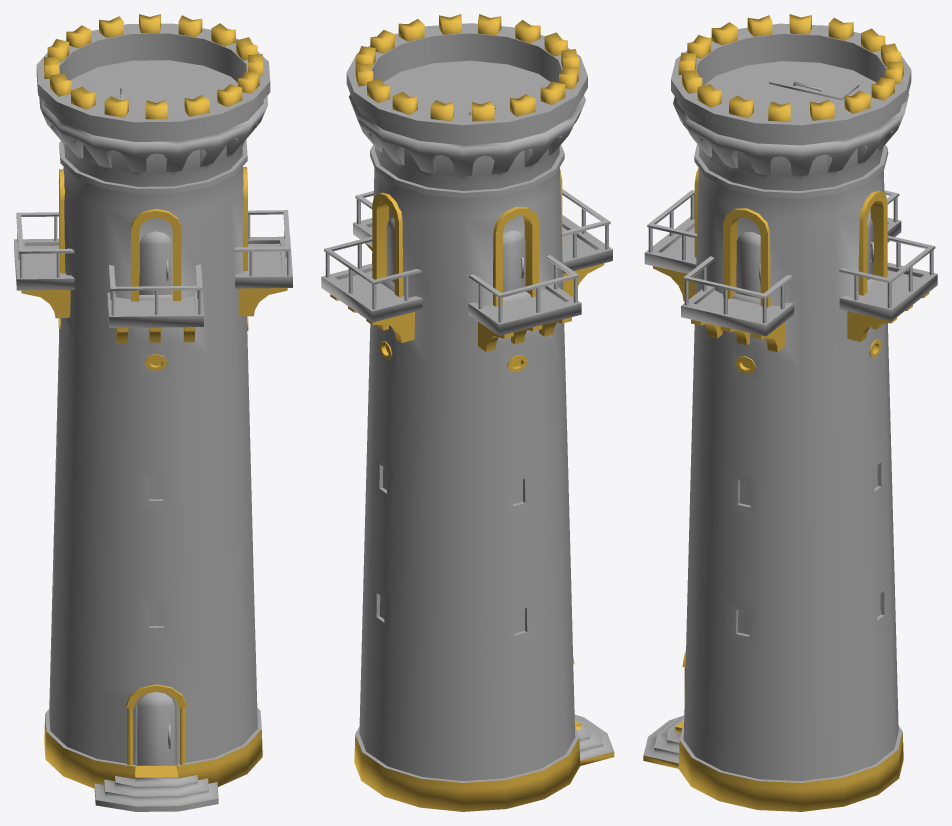
The picture shows the model from 3 angles, left to right: view 1: azimuth 30°, elevation 25°; view 2: azimuth 150°, elevation 25°; view 3: azimuth 270°, elevation 25°; orthographic projection. The views are drawn at different scales.
Visible parts, largest first — view 1: KH_TowerHigh.003; view 2: KH_TowerHigh.003; view 3: KH_TowerHigh.003.
Part boxes in pixels (<box>): KH_TowerHigh.003: <box>14,14,292,811</box>; KH_TowerHigh.003: <box>321,14,614,811</box>; KH_TowerHigh.003: <box>643,14,937,811</box>.
Size of the model in its own units: 539 by 1426 by 541.
